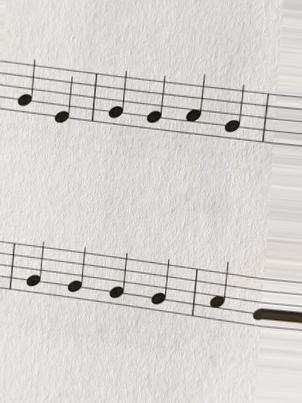note: (147, 256, 175, 325), (11, 53, 38, 120), (50, 63, 76, 131), (222, 80, 248, 147), (205, 258, 230, 326), (105, 67, 131, 131), (22, 238, 49, 298), (185, 70, 208, 138), (146, 72, 168, 137), (64, 244, 88, 303), (106, 250, 129, 311)
